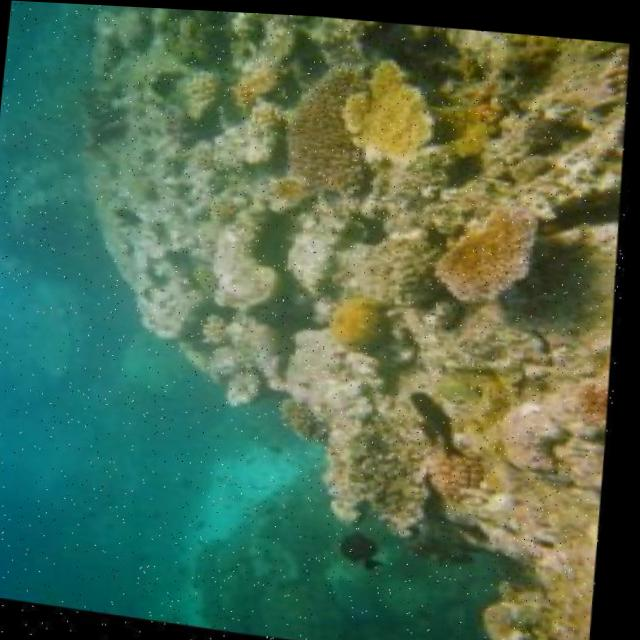Healthy Coral: (260, 57, 446, 203), (434, 191, 561, 317)
